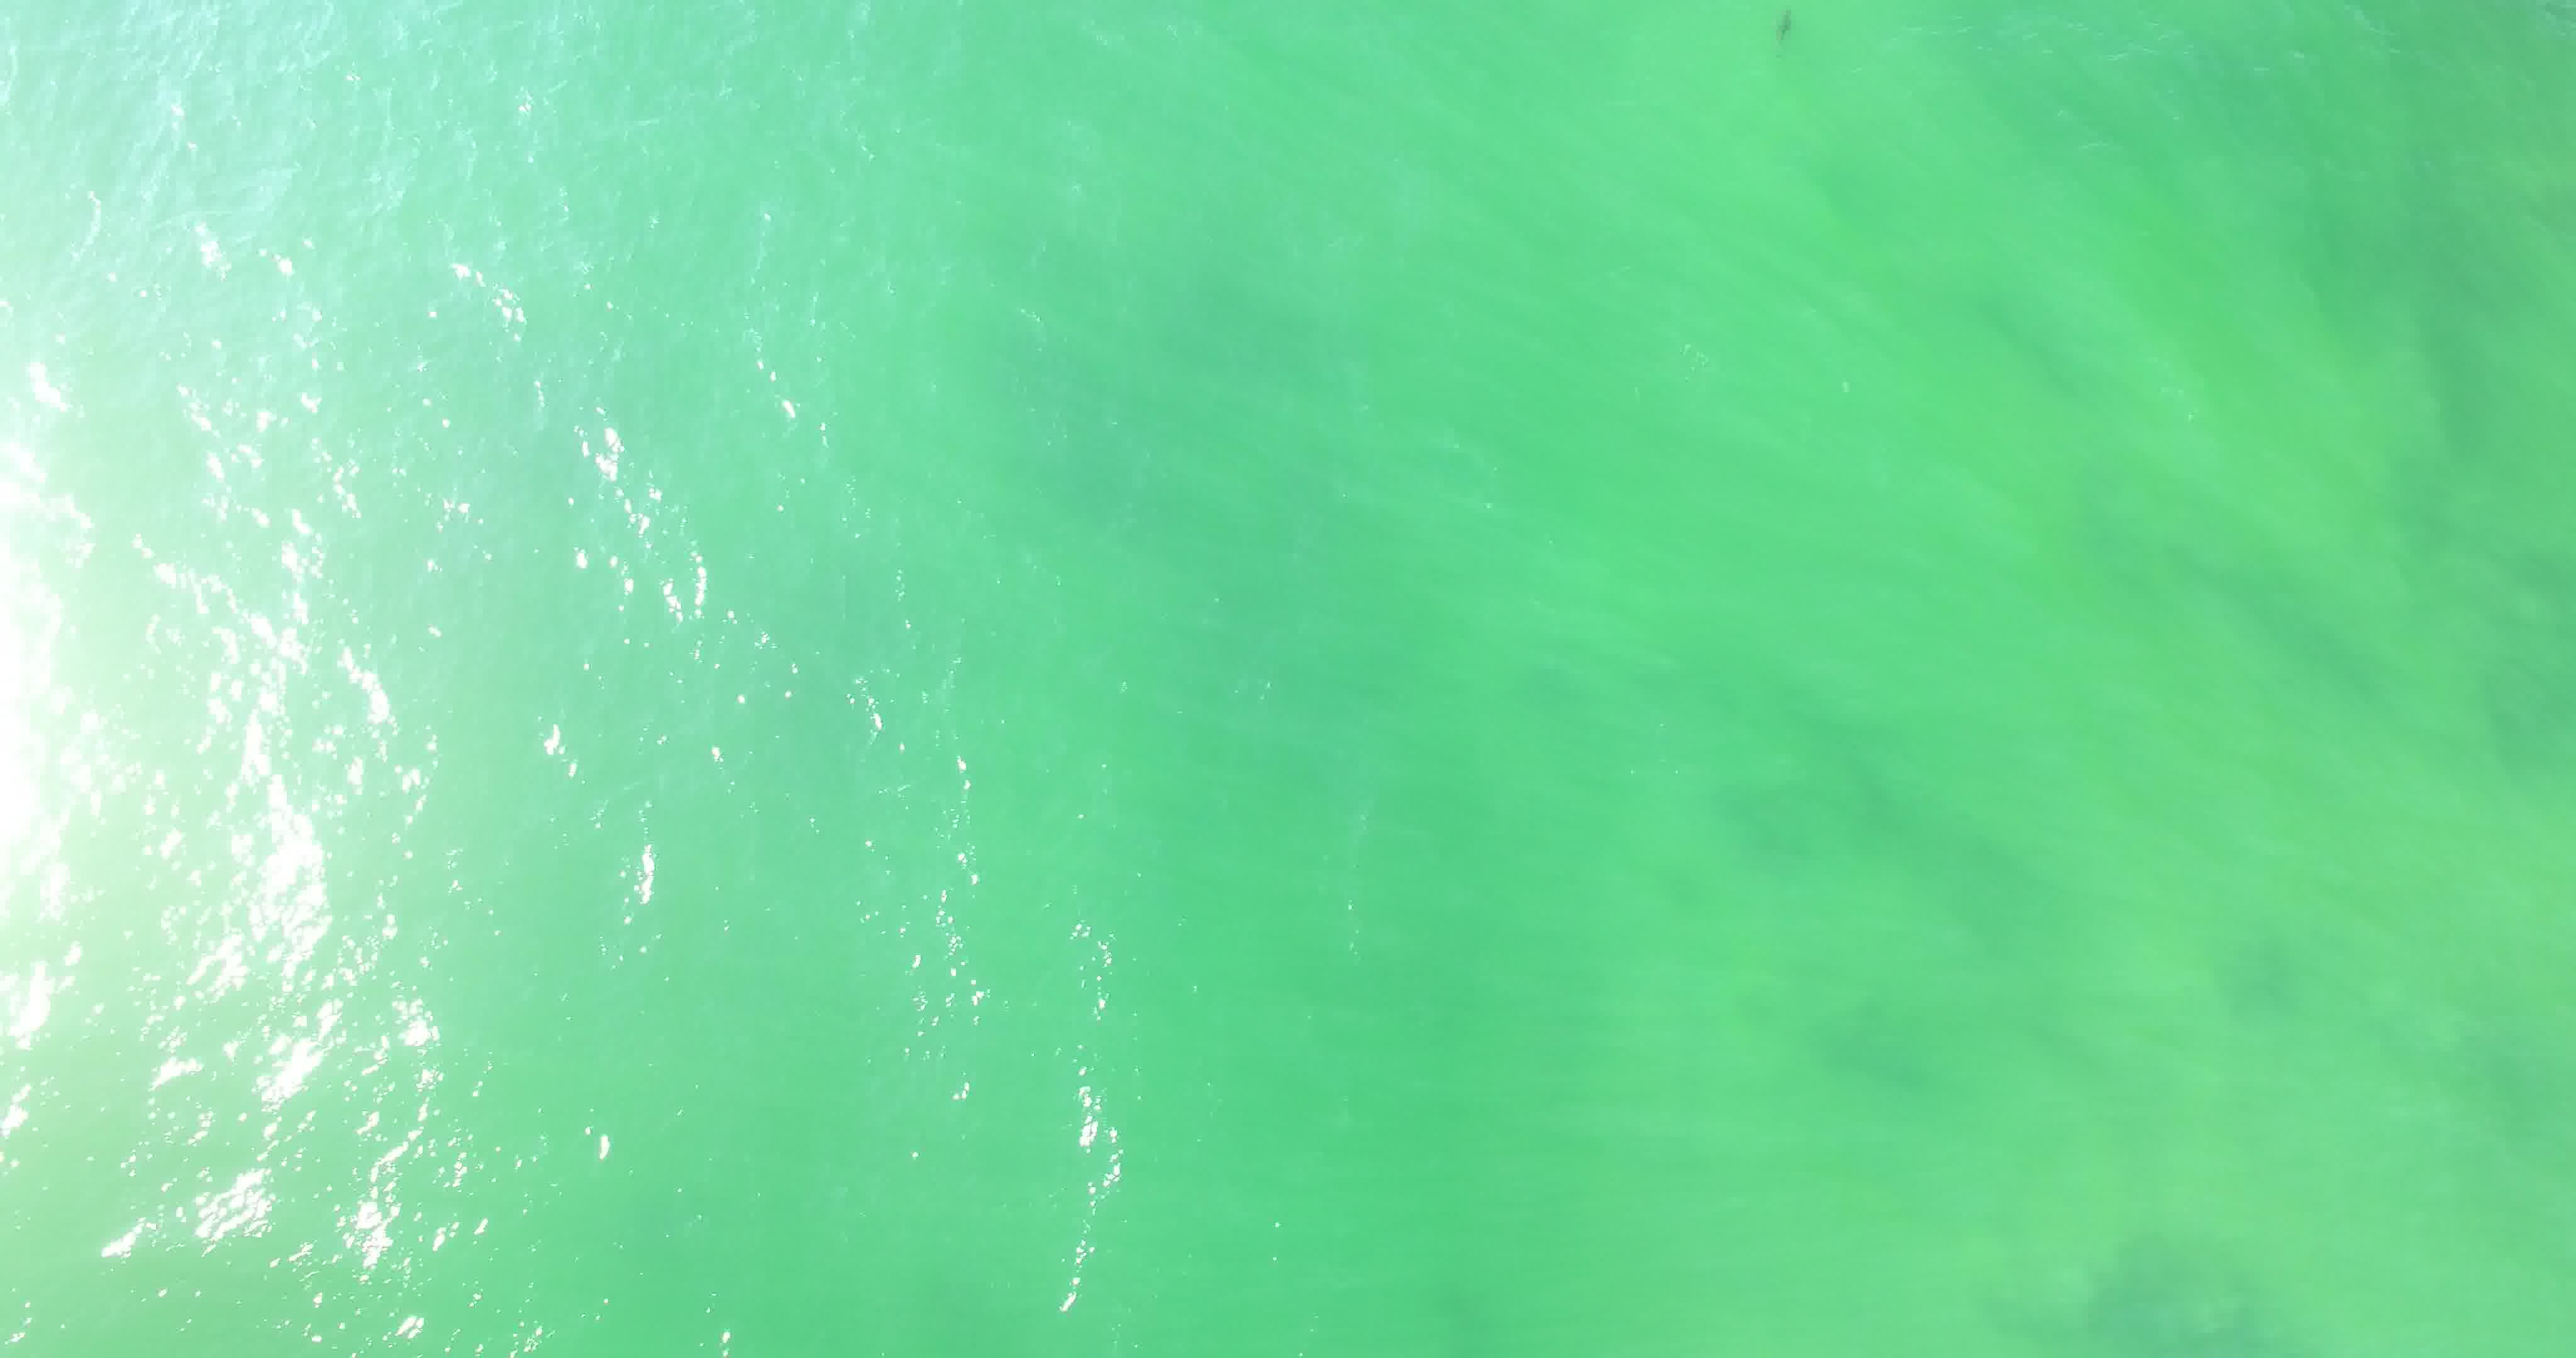dolphin: (1762, 3, 1808, 60)
